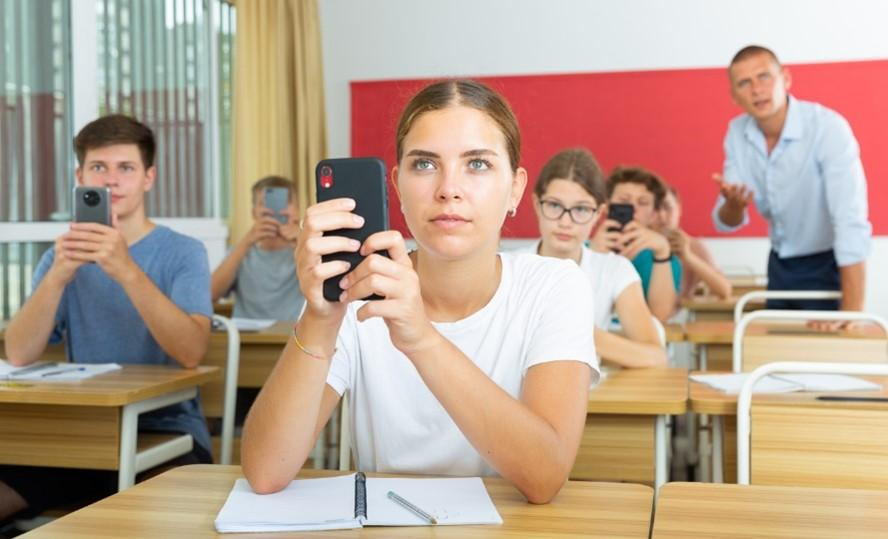phone: (224, 74, 583, 502), (1, 112, 205, 372), (212, 174, 316, 317), (595, 168, 683, 319)
